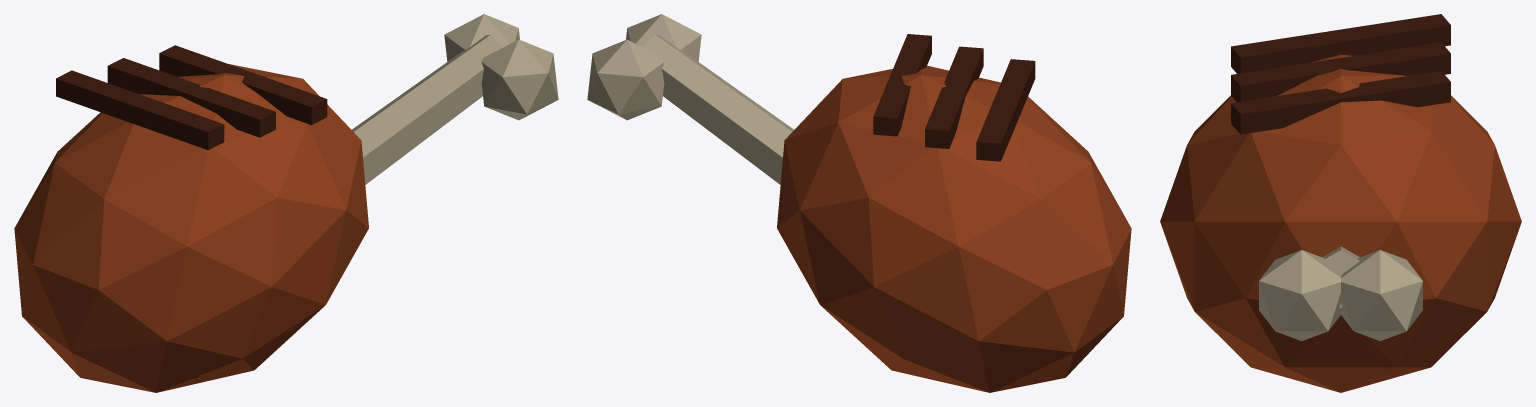
Rendered from roast_meat.glb.
The picture shows the model from 3 angles, left to right: view 1: azimuth 30°, elevation 25°; view 2: azimuth 150°, elevation 25°; view 3: azimuth 270°, elevation 25°; orthographic projection. The views are drawn at different scales.
Visible parts, largest first — view 1: Meat, Bone, Char0, KnobB, Char1, Char2, KnobA; view 2: Meat, Bone, KnobA, Char0, Char1, Char2, KnobB; view 3: Meat, Char0, KnobA, KnobB, Char2, Char1, Bone.
Part boxes in pixels (x1,y1,x2,y2): Meat: (14, 64, 368, 392); Bone: (352, 34, 502, 184); Char0: (56, 70, 224, 150); KnobB: (481, 39, 558, 120); Char1: (107, 58, 275, 137); Char2: (159, 45, 327, 124); KnobA: (444, 14, 519, 61); Meat: (777, 65, 1131, 392); Bone: (643, 34, 793, 184); KnobA: (587, 39, 664, 120); Char0: (976, 59, 1035, 161); Char1: (925, 46, 983, 148); Char2: (873, 34, 931, 136); KnobB: (626, 14, 701, 61); Meat: (1160, 54, 1521, 392); Char0: (1231, 14, 1450, 73); KnobA: (1341, 250, 1422, 340); KnobB: (1259, 250, 1340, 340); Char2: (1231, 71, 1450, 134); Char1: (1231, 42, 1450, 102); Bone: (1322, 246, 1359, 307).
Bounding box in the file's own units: 0.585 × 0.3228 × 0.323.
